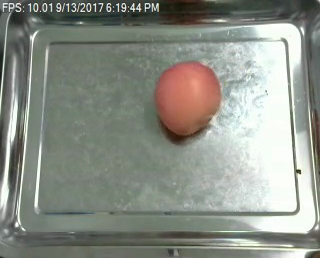Apple: (149, 61, 222, 139)
